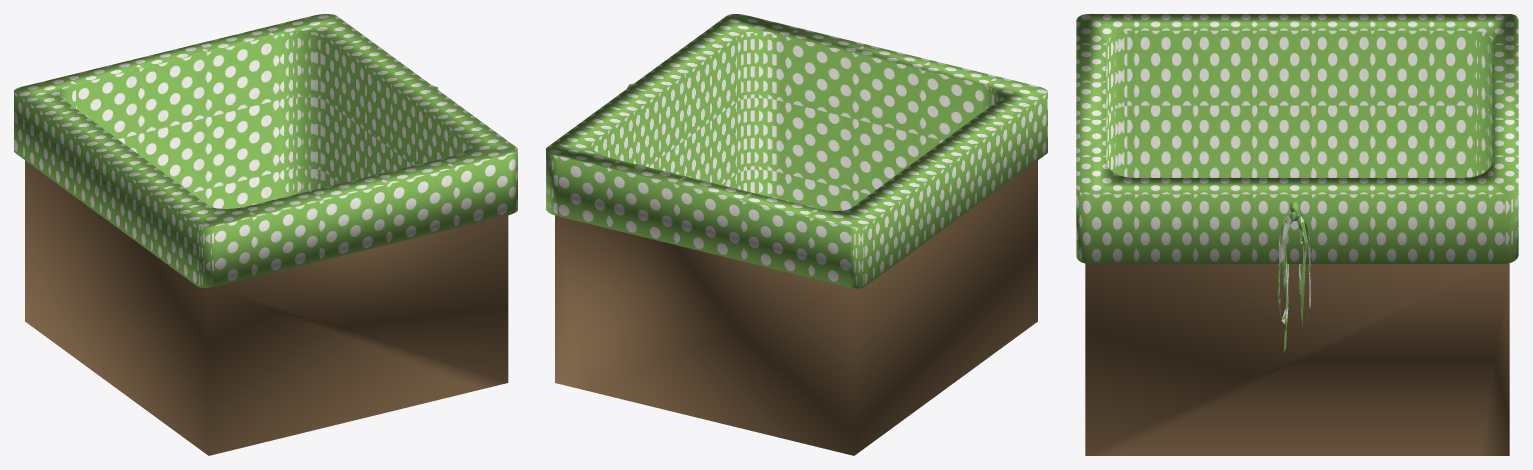
The picture shows the model from 3 angles, left to right: view 1: azimuth 30°, elevation 25°; view 2: azimuth 150°, elevation 25°; view 3: azimuth 270°, elevation 25°; orthographic projection. The views are drawn at different scales.
Visible parts, largest first — view 1: Mesh2_Group4_Group3_Group1_Model; view 2: Mesh2_Group4_Group3_Group1_Model; view 3: Mesh2_Group4_Group3_Group1_Model.
Part boxes in pixels (x1=…): Mesh2_Group4_Group3_Group1_Model: x1=14, y1=14, x2=517, y2=455; Mesh2_Group4_Group3_Group1_Model: x1=546, y1=14, x2=1047, y2=455; Mesh2_Group4_Group3_Group1_Model: x1=1076, y1=14, x2=1518, y2=455.
Size of the model in its own units: 1.5 by 1 by 1.5.
